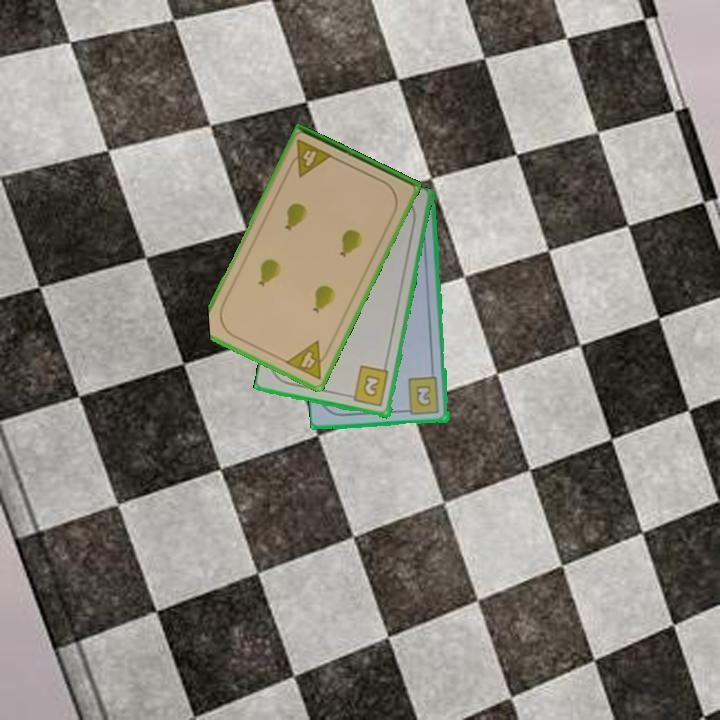2b: (344, 363, 392, 409), (400, 374, 442, 418)
4p: (282, 337, 334, 383), (284, 136, 335, 180)
